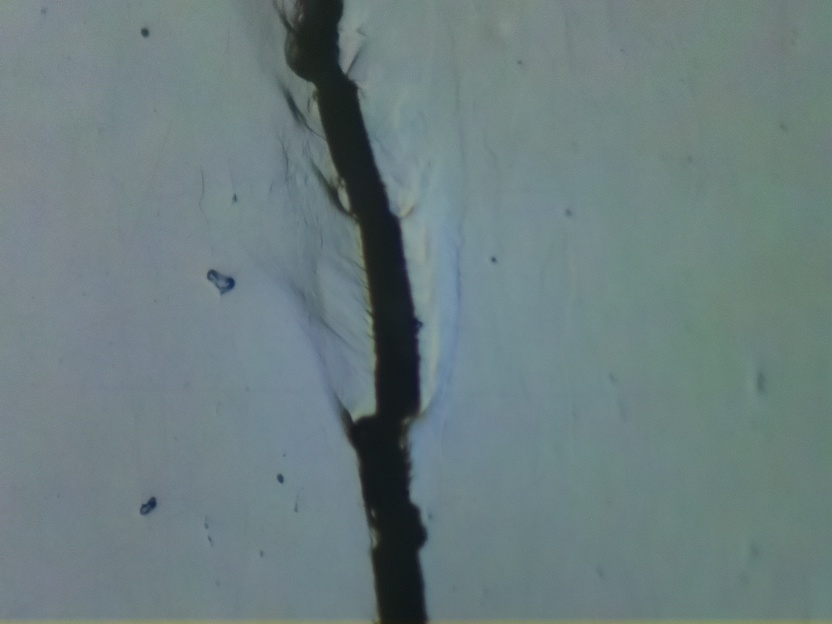crack: (284, 0, 435, 624)
